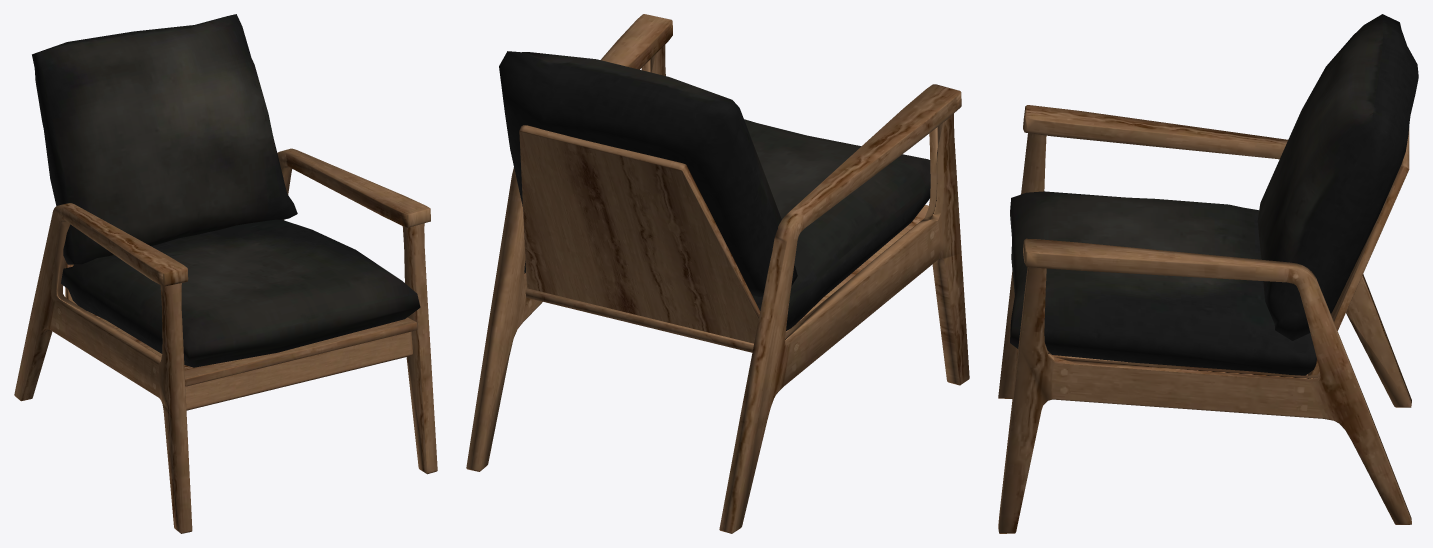
The model's file is modern_arm_chair_01.glb.
The picture shows the model from 3 angles, left to right: view 1: azimuth 30°, elevation 25°; view 2: azimuth 150°, elevation 25°; view 3: azimuth 270°, elevation 25°; orthographic projection. The views are drawn at different scales.
Visible parts, largest first — view 1: modern_arm_chair_01; view 2: modern_arm_chair_01; view 3: modern_arm_chair_01.
Part boxes in pixels (x1,y1,x2,y2): modern_arm_chair_01: (14,14,437,533); modern_arm_chair_01: (466,14,969,533); modern_arm_chair_01: (998,14,1418,533).
Bounding box in the file's own units: 0.8203 × 1.02 × 0.9864.
2 materials, 2 textured.
